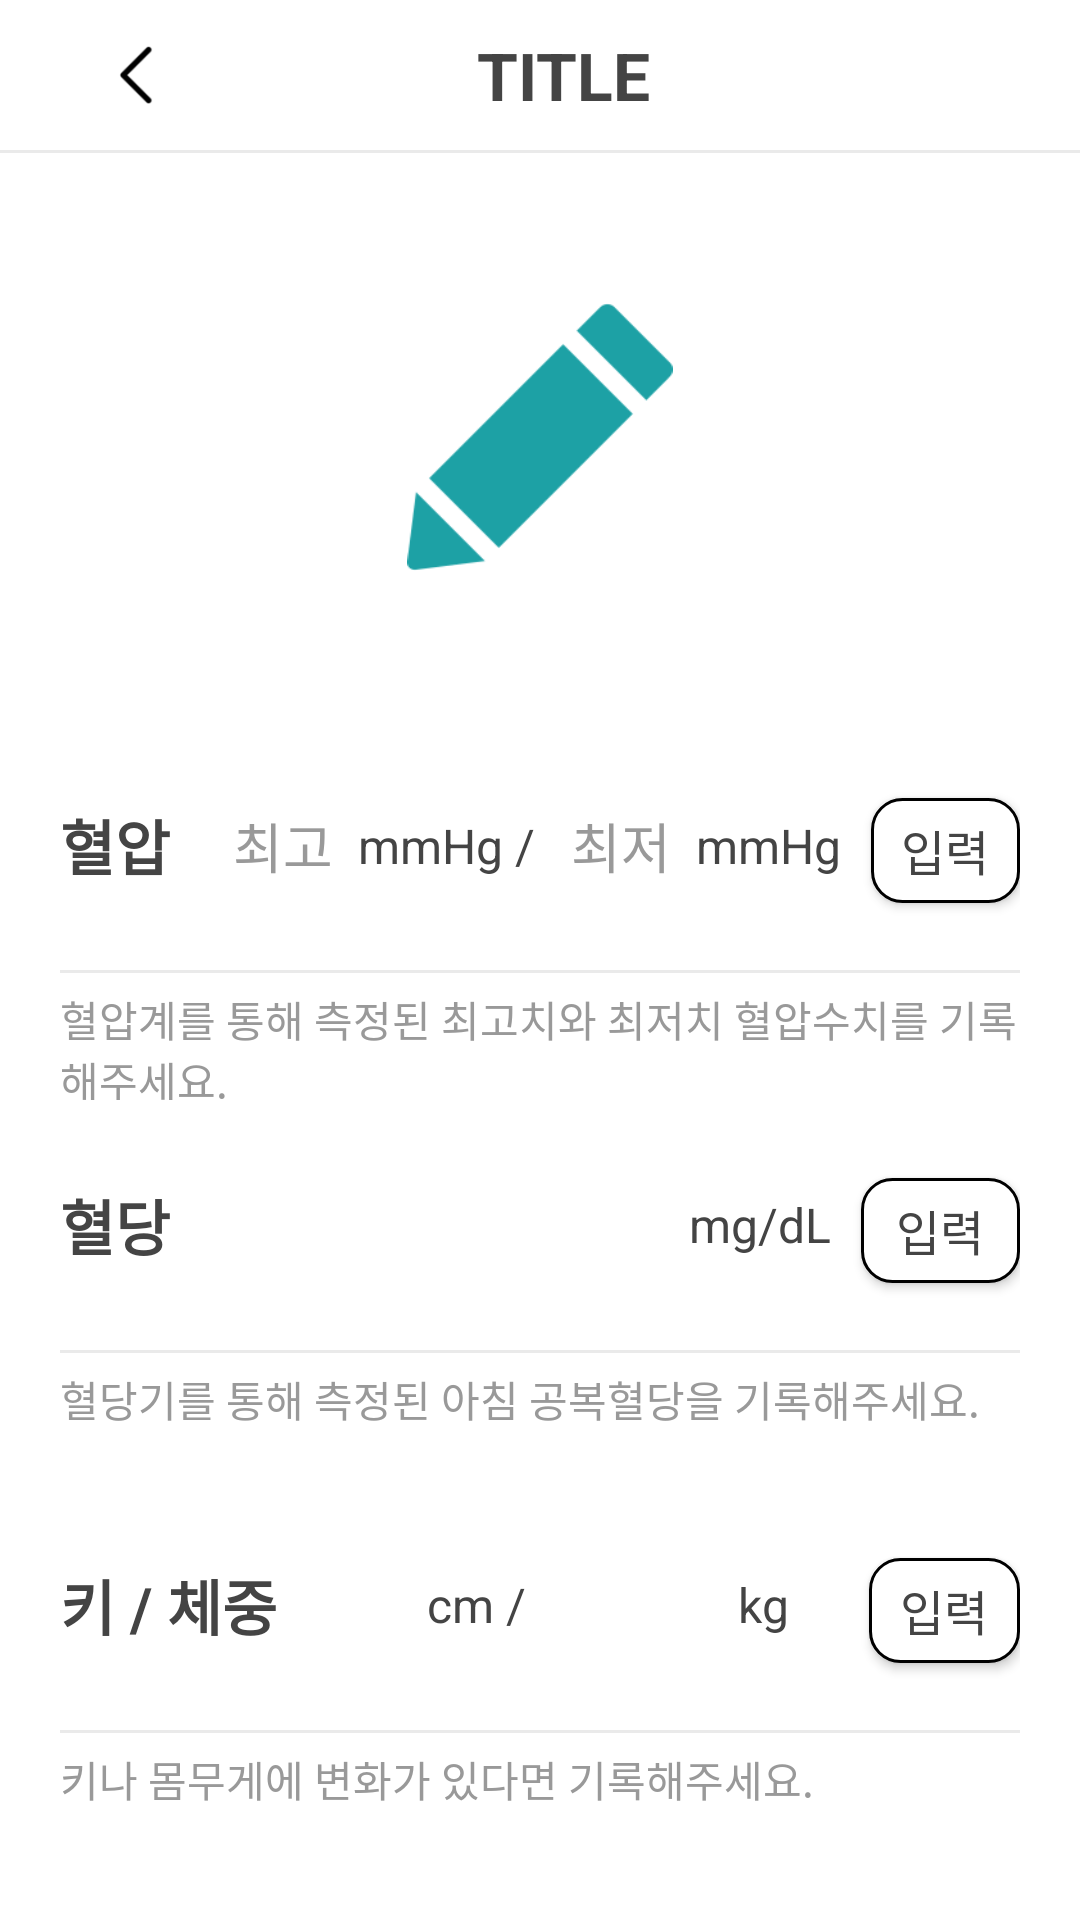

Screen size 1080 × 1920. Icon name, then its box in pixels as (x1, y1, x2, y2):
arrow left: (120, 46, 152, 104)
